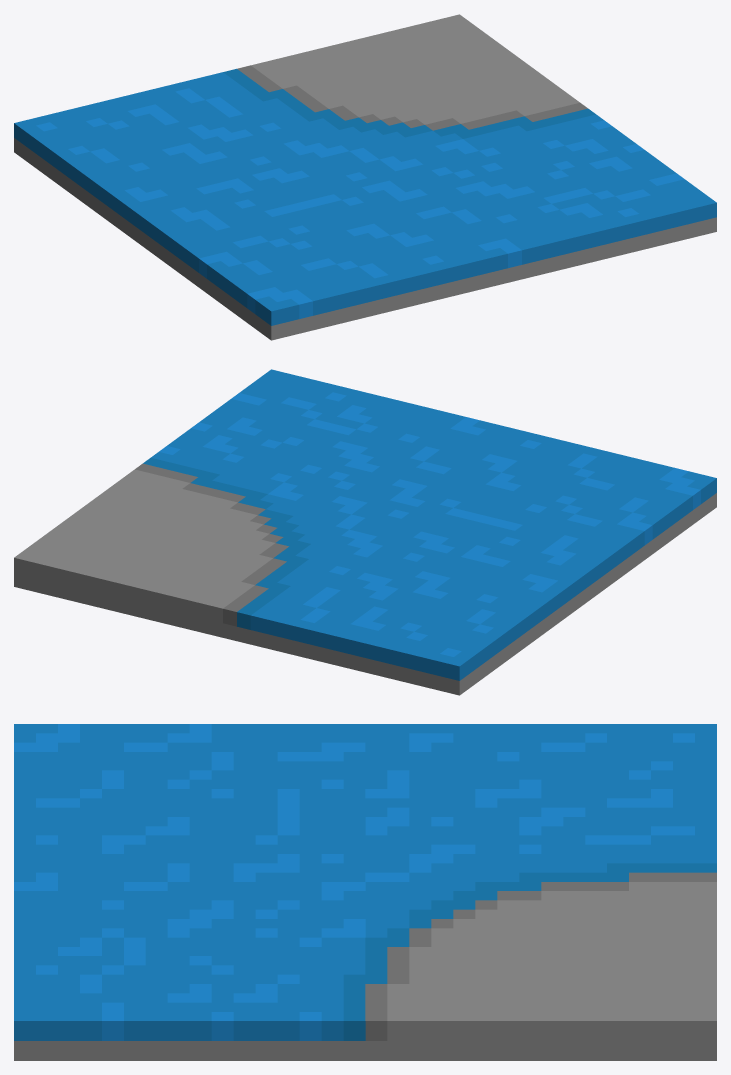
File: city-water-rounded-edge-outer-4.gltf
3 renders of one model, top to bottom at view 1: azimuth 30°, elevation 25°; view 2: azimuth 150°, elevation 25°; view 3: azimuth 270°, elevation 25°, orthographic. The views are drawn at different scales.
Parts seen in each view (by area): view 1: city-water-rounded-edge-outer-4_model; view 2: city-water-rounded-edge-outer-4_model; view 3: city-water-rounded-edge-outer-4_model.
Boxes of the visible parts, box(x1,y1,x2,y2) form: city-water-rounded-edge-outer-4_model: box(14, 14, 716, 340); city-water-rounded-edge-outer-4_model: box(14, 369, 716, 695); city-water-rounded-edge-outer-4_model: box(14, 724, 716, 1060).
Bounding box in the file's own units: 3.2 × 0.2 × 3.2.
Materials: 1 (1 with a texture image).
